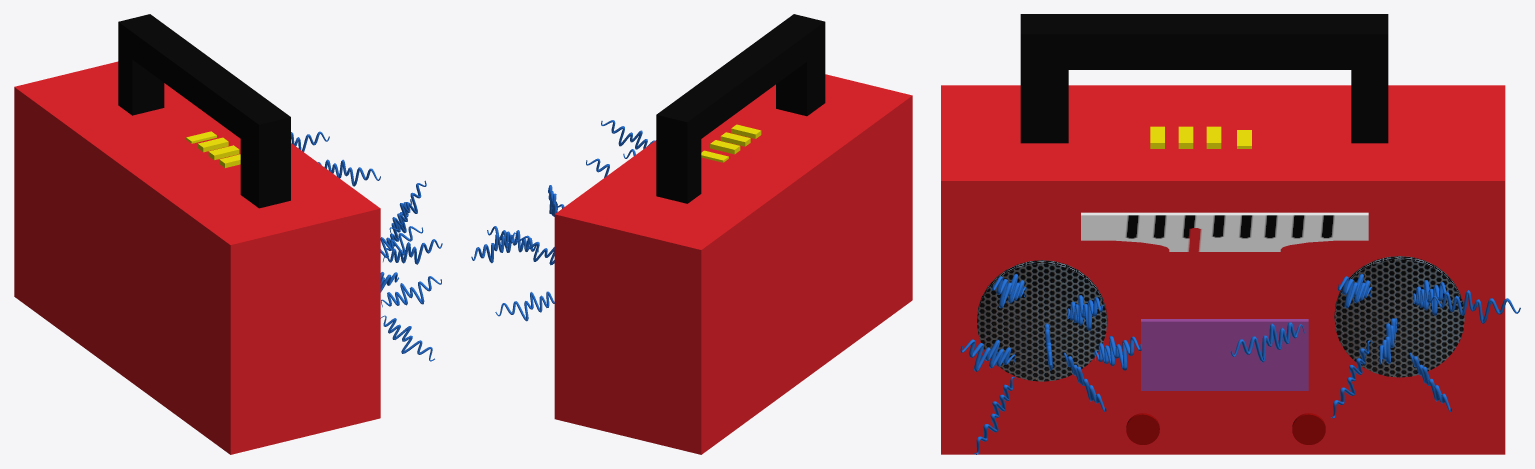
The model's file is radio.obj.
3 renders of one model, left to right at view 1: azimuth 30°, elevation 25°; view 2: azimuth 150°, elevation 25°; view 3: azimuth 270°, elevation 25°, orthographic. The views are drawn at different scales.
Parts seen in each view (by area): view 1: Cuerpo_Cubo, Agarradera_Cubo.001, Onda_de_sonido.014_Curva_Bézier.015, Onda_de_sonido.002_Curva_Bézier.007, Onda_de_sonido.009_Curva_Bézier.010, Onda_de_sonido.012_Curva_Bézier.013, Onda_de_sonido.001_Curva_Bézier.001; view 2: Cuerpo_Cubo, Agarradera_Cubo.001, Onda_de_sonido.007_Curva_Bézier.008, Onda_de_sonido.011_Curva_Bézier.012; view 3: Cuerpo_Cubo, Agarradera_Cubo.001, Casetera_Cubo.006, Bocina_Cilindro.002, Bocina.001_Cilindro, VisorCanales_Cubo.007, Onda_de_sonido.012_Curva_Bézier.013, Onda_de_sonido.014_Curva_Bézier.015, BotonCircular.001_Cilindro.003, BotonCircular_Cilindro.001, Onda_de_sonido.013_Curva_Bézier.014, Onda_de_sonido.011_Curva_Bézier.012 (+6 smaller).
Part boxes in pixels (x1,y1,x2,y2): Cuerpo_Cubo: (14, 61, 380, 454); Agarradera_Cubo.001: (118, 14, 290, 208); Onda_de_sonido.014_Curva_Bézier.015: (381, 276, 441, 307); Onda_de_sonido.002_Curva_Bézier.007: (380, 315, 434, 361); Onda_de_sonido.009_Curva_Bézier.010: (383, 239, 442, 264); Onda_de_sonido.012_Curva_Bézier.013: (318, 159, 380, 186); Onda_de_sonido.001_Curva_Bézier.001: (389, 180, 426, 234); Cuerpo_Cubo: (554, 74, 912, 454); Agarradera_Cubo.001: (656, 14, 825, 203); Onda_de_sonido.007_Curva_Bézier.008: (495, 291, 554, 321); Onda_de_sonido.011_Curva_Bézier.012: (471, 231, 517, 263); Cuerpo_Cubo: (941, 85, 1505, 454); Agarradera_Cubo.001: (1020, 14, 1388, 143); Casetera_Cubo.006: (1141, 319, 1308, 390); Bocina_Cilindro.002: (977, 260, 1107, 381); Bocina.001_Cilindro: (1334, 256, 1464, 377); VisorCanales_Cubo.007: (1081, 212, 1368, 251); Onda_de_sonido.012_Curva_Bézier.013: (1230, 322, 1304, 362); Onda_de_sonido.014_Curva_Bézier.015: (960, 339, 1015, 371); BotonCircular.001_Cilindro.003: (1292, 413, 1325, 444); BotonCircular_Cilindro.001: (1126, 413, 1159, 444); Onda_de_sonido.013_Curva_Bézier.014: (1094, 335, 1141, 370); Onda_de_sonido.011_Curva_Bézier.012: (1431, 290, 1520, 323).
Bounding box in the file's own units: 2.67 × 2.8 × 3.84.
